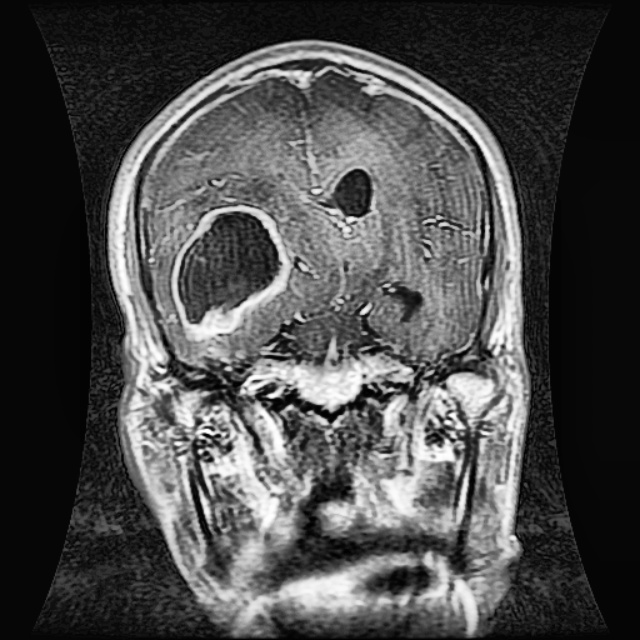Glioma: (172, 204, 293, 342)
